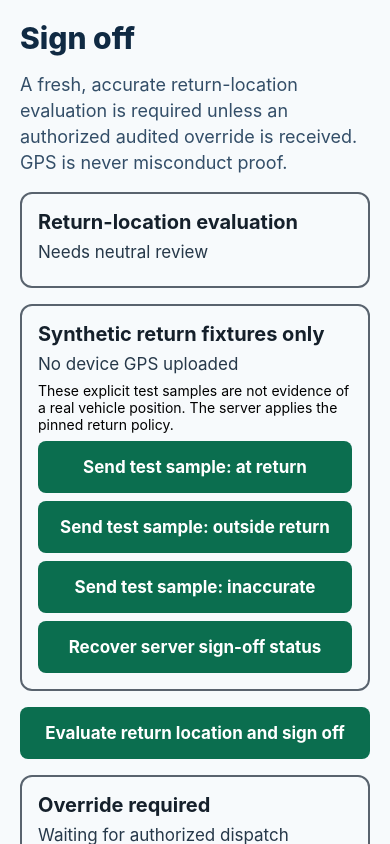
Test case: failed return recovery is visible and does not submit another sign-off
Click the button "Recover server sign-off status".
click(195, 647)  # box [38,621,352,673]
(page scrolled)
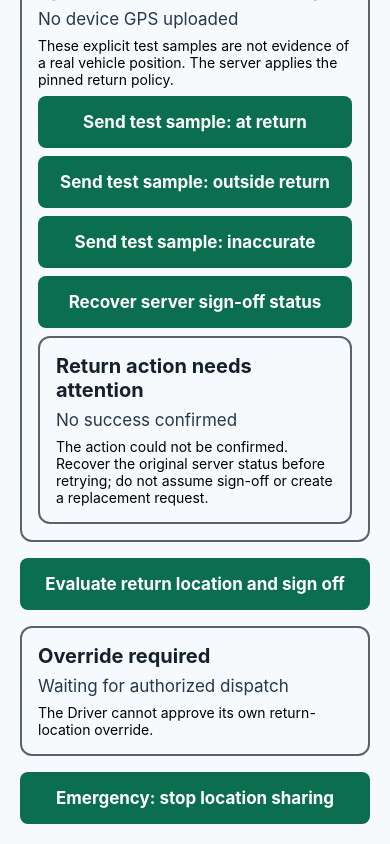
Expected: the text "Waiting for authorized dispatch" is shown, [38,676,289,696]
Now the text "No success confirmed" is shown, box [56,410,237,430]
